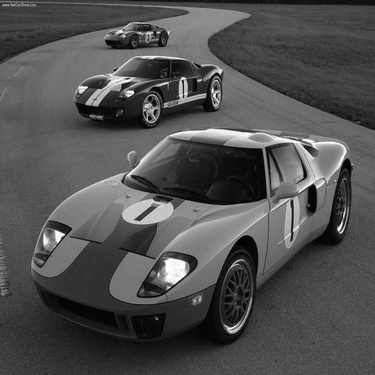car: (20, 117, 360, 352), (62, 55, 229, 134), (101, 21, 173, 52)
